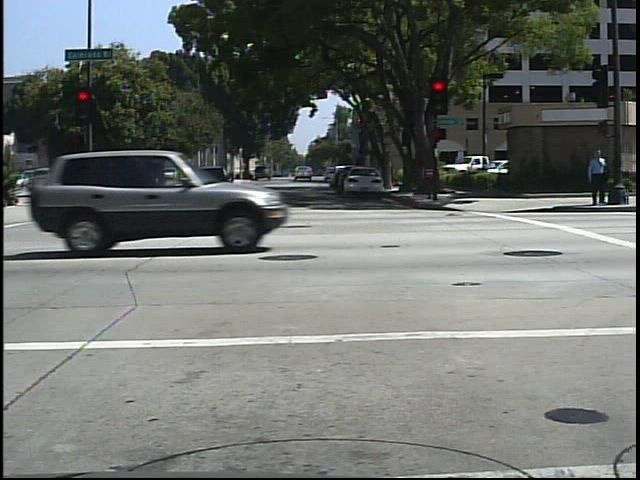person: (137, 155, 169, 219), (586, 143, 608, 209)
